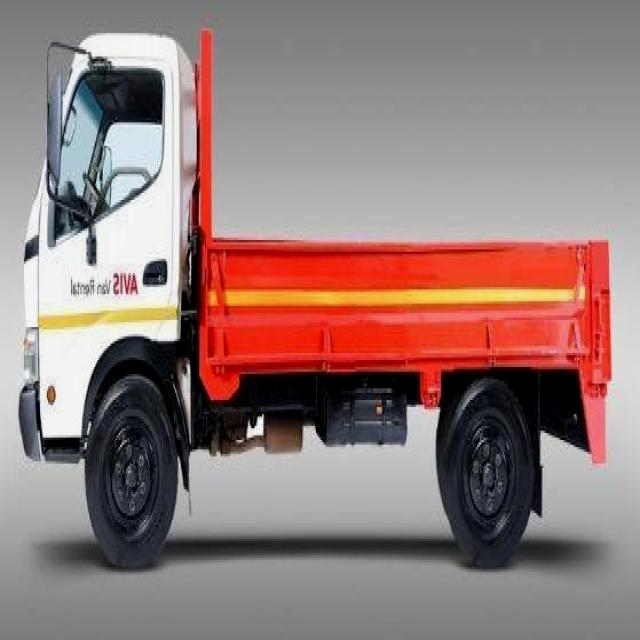Truck: (22, 76, 616, 552)
